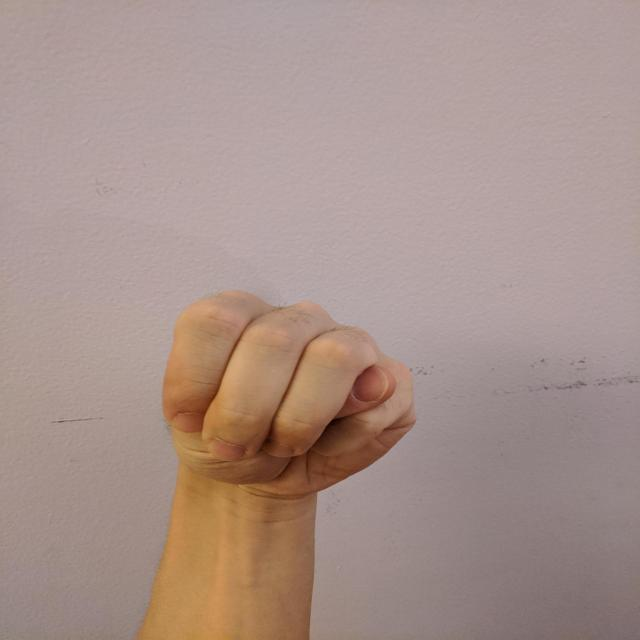M: (154, 286, 424, 498)
